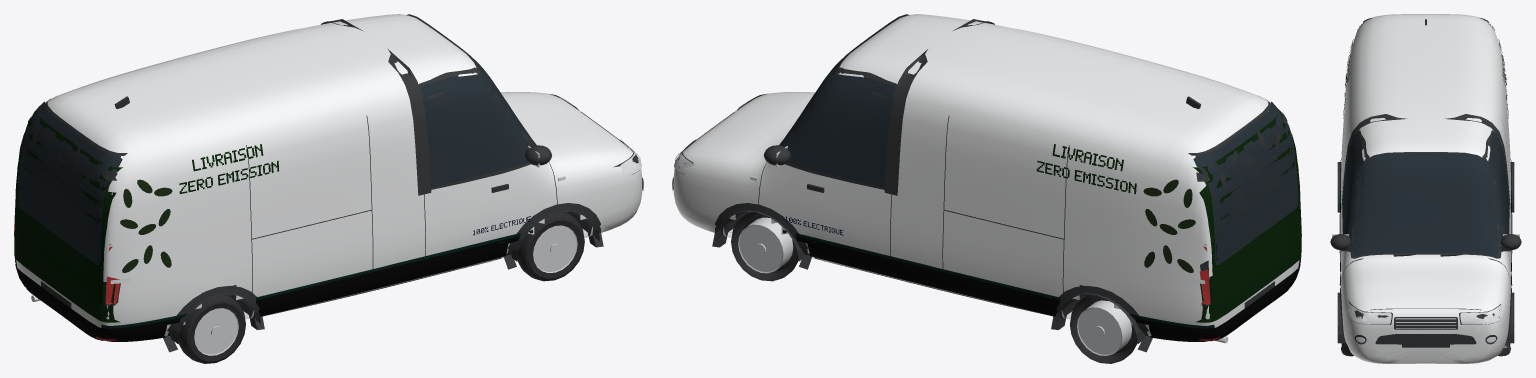
The model's file is livr_expr.glb.
The picture shows the model from 3 angles, left to right: view 1: azimuth 30°, elevation 25°; view 2: azimuth 150°, elevation 25°; view 3: azimuth 270°, elevation 25°; orthographic projection. The views are drawn at different scales.
Visible parts, largest first — view 1: Body, RearGlass, Glass-1, LeRearGreen, LeSill-1, WheelRR, WheelFR, Bpillar-1, LeRearSill, LeTeal-1, ArchTrim-1, ArchTrim-1.001 (+2 smaller); view 2: Body, RearGlass, Glass1, LeRearGreen, LeSill1, WheelFL, WheelRL, Bpillar1, ArchTrim1, LeTeal1, LeRearSill, ArchTrim1.001 (+2 smaller); view 3: Body, Windshield, Glass1, Glass-1, Intake, HeadReflector, Grille, WsFrame, Bpillar1, Bpillar-1, HeadBezel, Mirror1 (+7 smaller).
Boxes of the visible parts, <box> form: Body: <box>16,14,642,335</box>; RearGlass: <box>17,101,122,264</box>; Glass-1: <box>420,74,536,187</box>; LeRearGreen: <box>14,111,122,322</box>; LeSill-1: <box>93,236,520,341</box>; WheelRR: <box>178,294,245,363</box>; WheelFR: <box>517,212,584,281</box>; Bpillar-1: <box>387,48,431,195</box>; LeRearSill: <box>15,264,115,340</box>; LeTeal-1: <box>101,230,532,328</box>; ArchTrim-1: <box>504,203,603,269</box>; ArchTrim-1.001: <box>163,285,264,352</box>; Body: <box>673,14,1299,335</box>; RearGlass: <box>1193,101,1298,264</box>; Glass1: <box>779,74,895,187</box>; LeRearGreen: <box>1193,111,1301,322</box>; LeSill1: <box>795,236,1222,341</box>; WheelFL: <box>731,212,798,281</box>; WheelRL: <box>1070,294,1137,363</box>; Bpillar1: <box>884,49,927,195</box>; ArchTrim1: <box>712,203,811,269</box>; LeTeal1: <box>783,230,1214,328</box>; LeRearSill: <box>1195,264,1300,341</box>; ArchTrim1.001: <box>1051,285,1152,352</box>; Body: <box>1341,14,1510,363</box>; Windshield: <box>1353,152,1498,256</box>; Glass1: <box>1477,132,1509,250</box>; Glass-1: <box>1342,132,1371,250</box>; Intake: <box>1375,334,1476,344</box>; HeadReflector: <box>1347,304,1503,324</box>; Grille: <box>1394,317,1457,329</box>; WsFrame: <box>1350,152,1501,258</box>; Bpillar1: <box>1445,114,1510,208</box>; Bpillar-1: <box>1341,114,1406,208</box>; HeadBezel: <box>1348,300,1500,324</box>; Mirror1: <box>1501,234,1521,249</box>.
Size of the model in its own units: 5.62 by 2.34 by 2.15.
